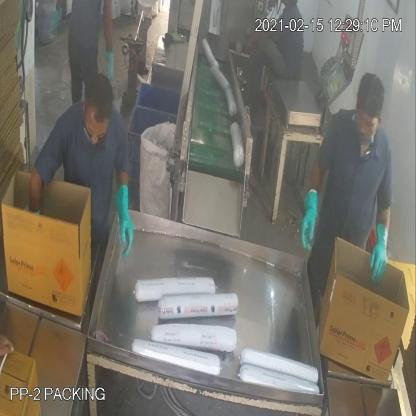glove: (111, 174, 142, 270), (371, 210, 397, 291), (294, 183, 322, 256)
no_glove: (20, 157, 48, 216), (245, 27, 280, 49)
